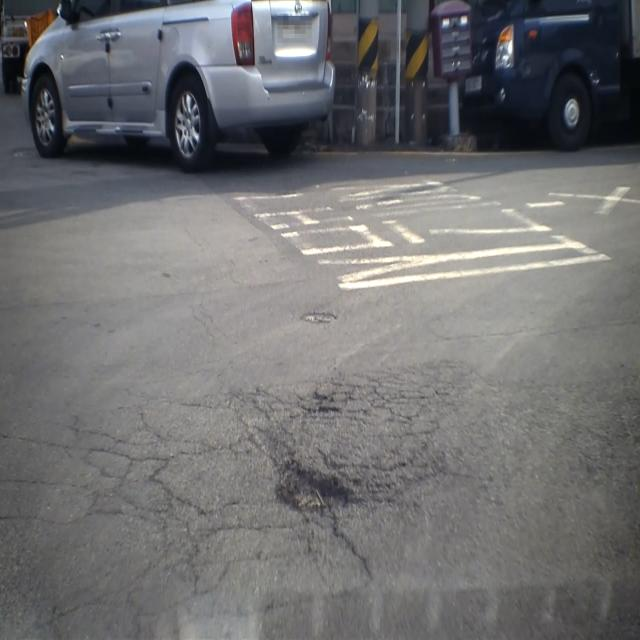Pothole: (254, 428, 361, 534)
